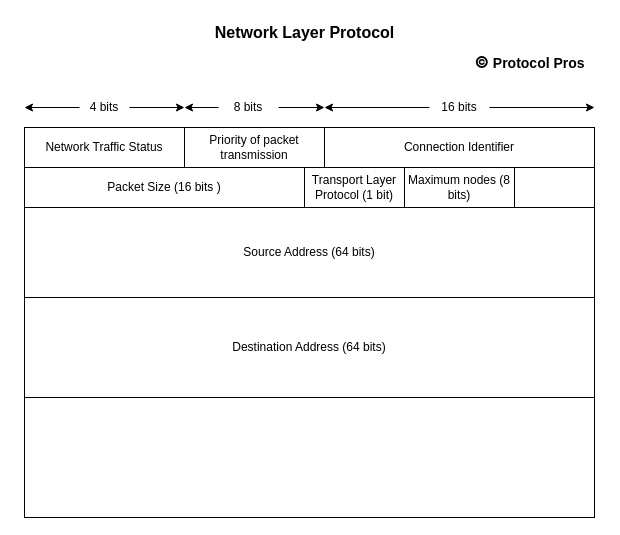
The diagram is 620 pixels wide and 535 high, and some of its shapes have lost their labels. Each missing label, with the box of its shape:
Data ......: (24, 396, 594, 518)
Header link (3 bits): (514, 166, 594, 208)
